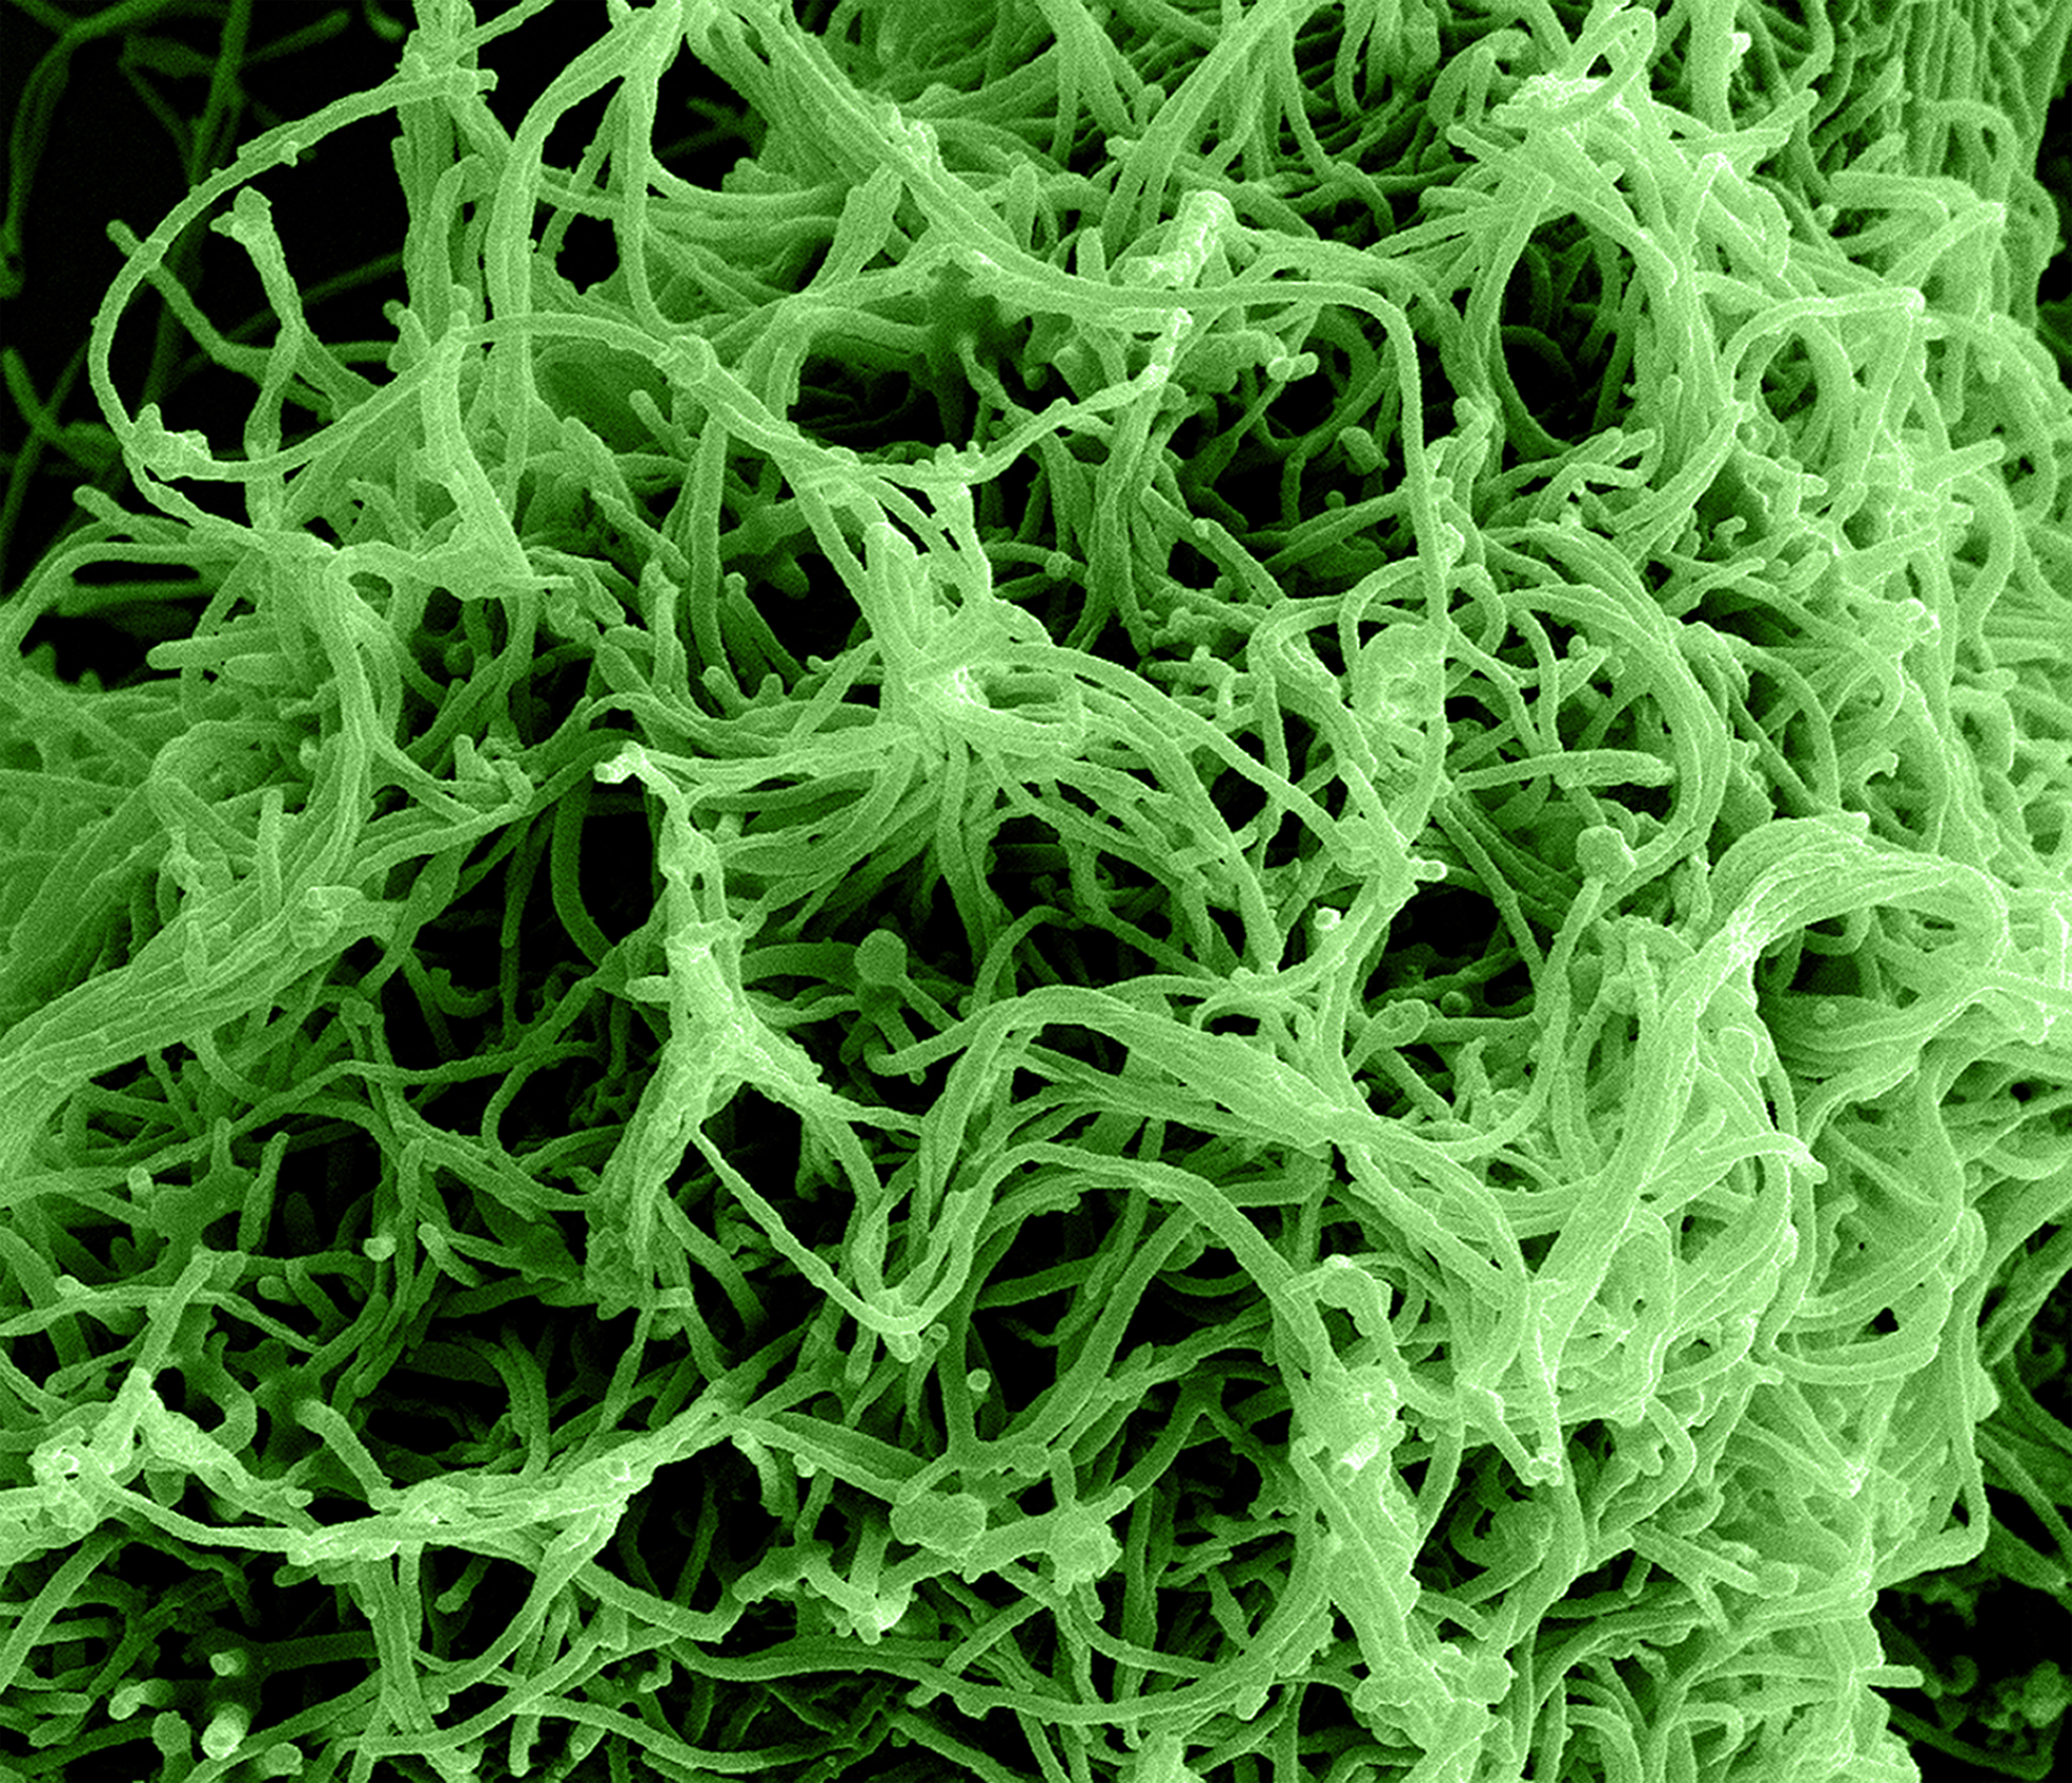EBOLA: (234, 16, 1727, 1217)
